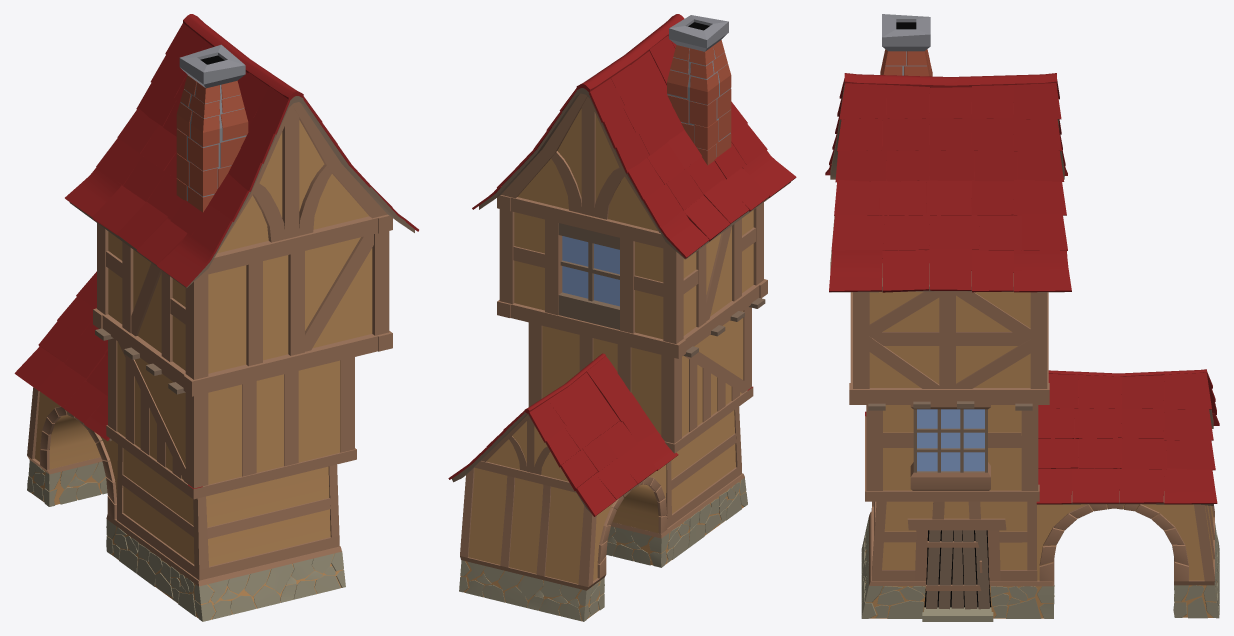
The model's file is building6.glb.
The picture shows the model from 3 angles, left to right: view 1: azimuth 30°, elevation 25°; view 2: azimuth 150°, elevation 25°; view 3: azimuth 270°, elevation 25°; orthographic projection. The views are drawn at different scales.
Visible parts, largest first — view 1: house; view 2: house; view 3: house.
Part boxes in pixels (x1=…): house: x1=14, y1=14, x2=418, y2=621; house: x1=448, y1=14, x2=796, y2=621; house: x1=825, y1=14, x2=1219, y2=621.
Bounding box in the file's own units: 4.51 × 9.85 × 6.51.
